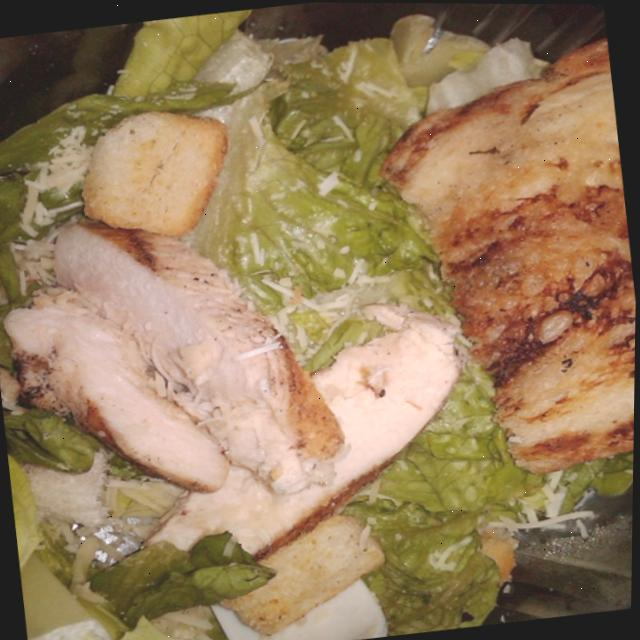蔬菜料理: (1, 14, 592, 640)
